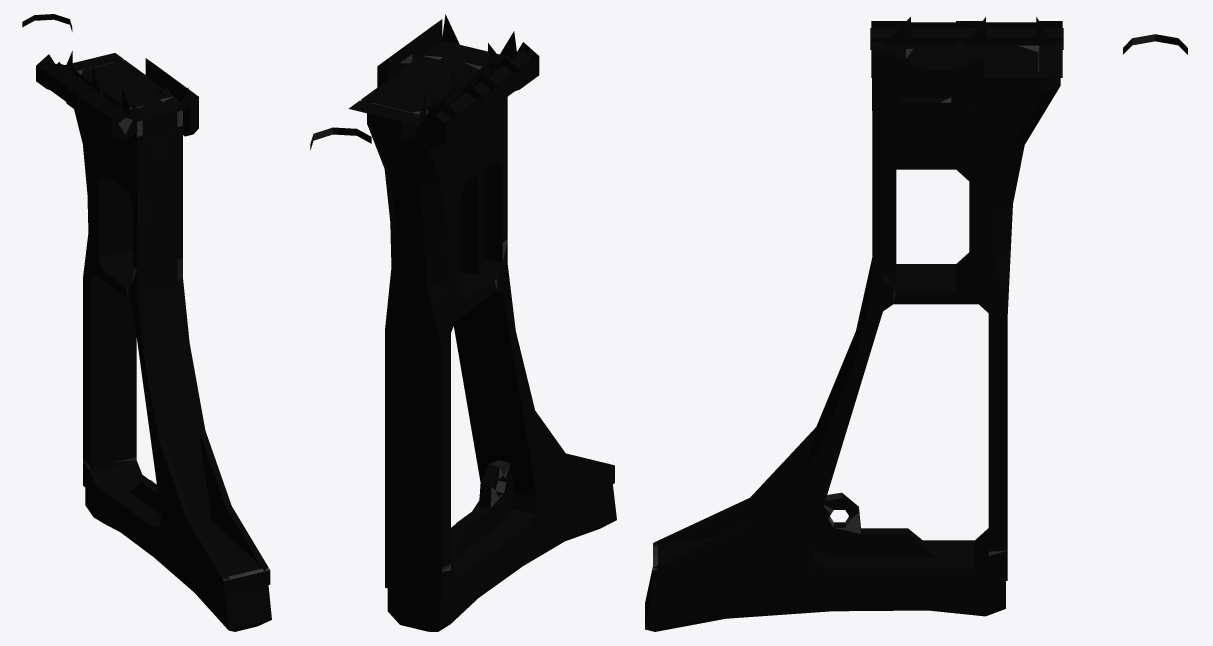
The model's file is Stock_G36_Folding.fbx.
The picture shows the model from 3 angles, left to right: view 1: azimuth 30°, elevation 25°; view 2: azimuth 150°, elevation 25°; view 3: azimuth 270°, elevation 25°; orthographic projection. The views are drawn at different scales.
Parts seen in each view (by area): view 1: asset_HK_G36.002; view 2: asset_HK_G36.002; view 3: asset_HK_G36.002.
Boxes of the visible parts, bbox=[...] form: asset_HK_G36.002: bbox=[22, 14, 271, 631]; asset_HK_G36.002: bbox=[310, 14, 616, 631]; asset_HK_G36.002: bbox=[645, 17, 1187, 631].
Bounding box in the file's own units: 0.0302 × 0.1569 × 0.1324.
